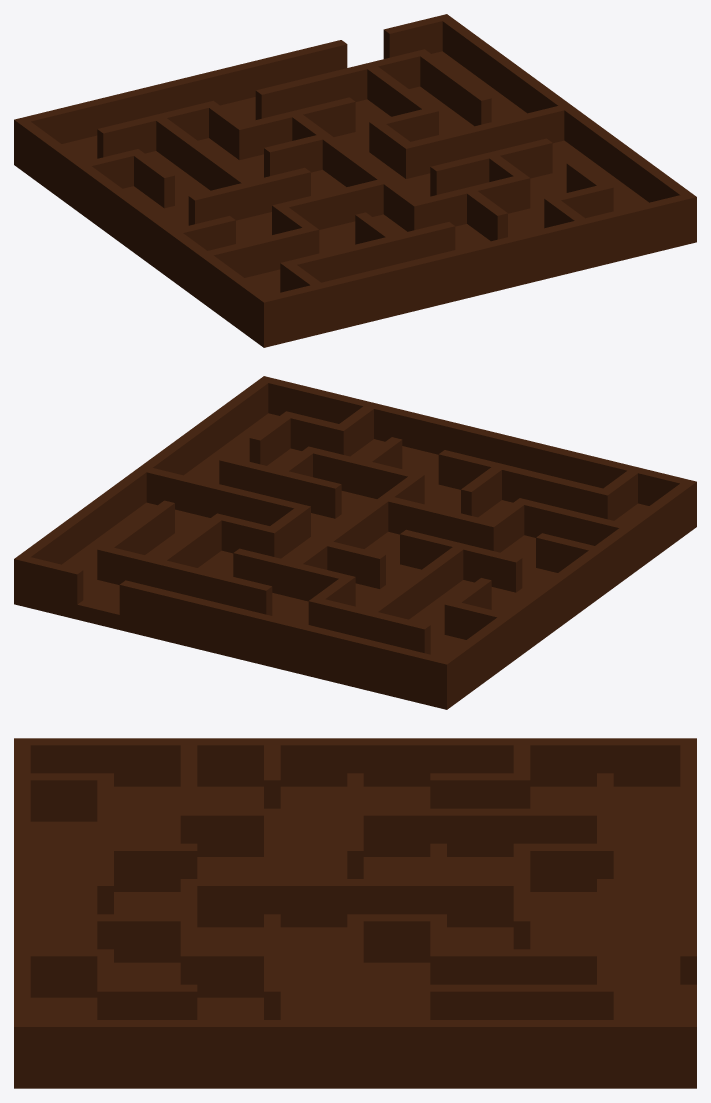
The model's file is Labyrinth3.obj.
The picture shows the model from 3 angles, top to bottom: view 1: azimuth 30°, elevation 25°; view 2: azimuth 150°, elevation 25°; view 3: azimuth 270°, elevation 25°; orthographic projection. The views are drawn at different scales.
Parts seen in each view (by area): view 1: Labyrinth; view 2: Labyrinth; view 3: Labyrinth.
Boxes of the visible parts, left/top/right/bottom form: Labyrinth: left=14, top=14, right=696, bottom=347; Labyrinth: left=14, top=376, right=696, bottom=709; Labyrinth: left=14, top=738, right=696, bottom=1088.
Bounding box in the file's own units: 30 × 3 × 30.
